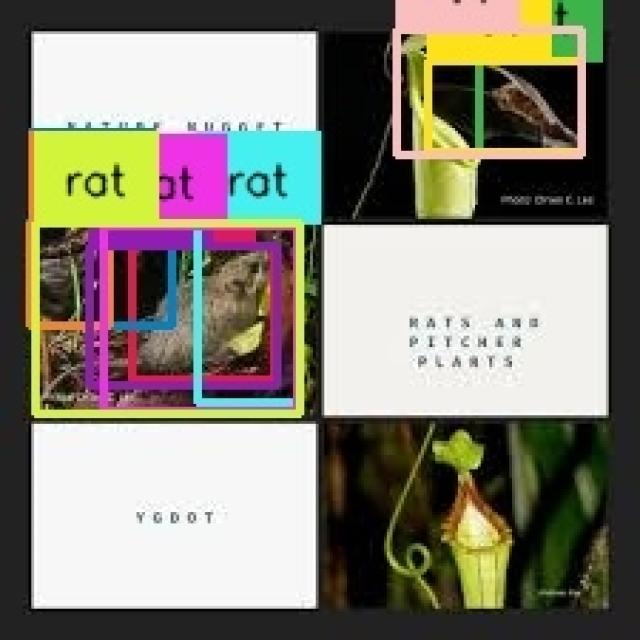rat: (36, 225, 300, 415), (102, 224, 296, 410), (91, 246, 276, 385), (396, 30, 582, 155), (131, 246, 276, 380), (198, 225, 297, 401), (30, 222, 172, 327), (428, 63, 582, 154), (479, 63, 582, 154), (28, 222, 111, 324)
